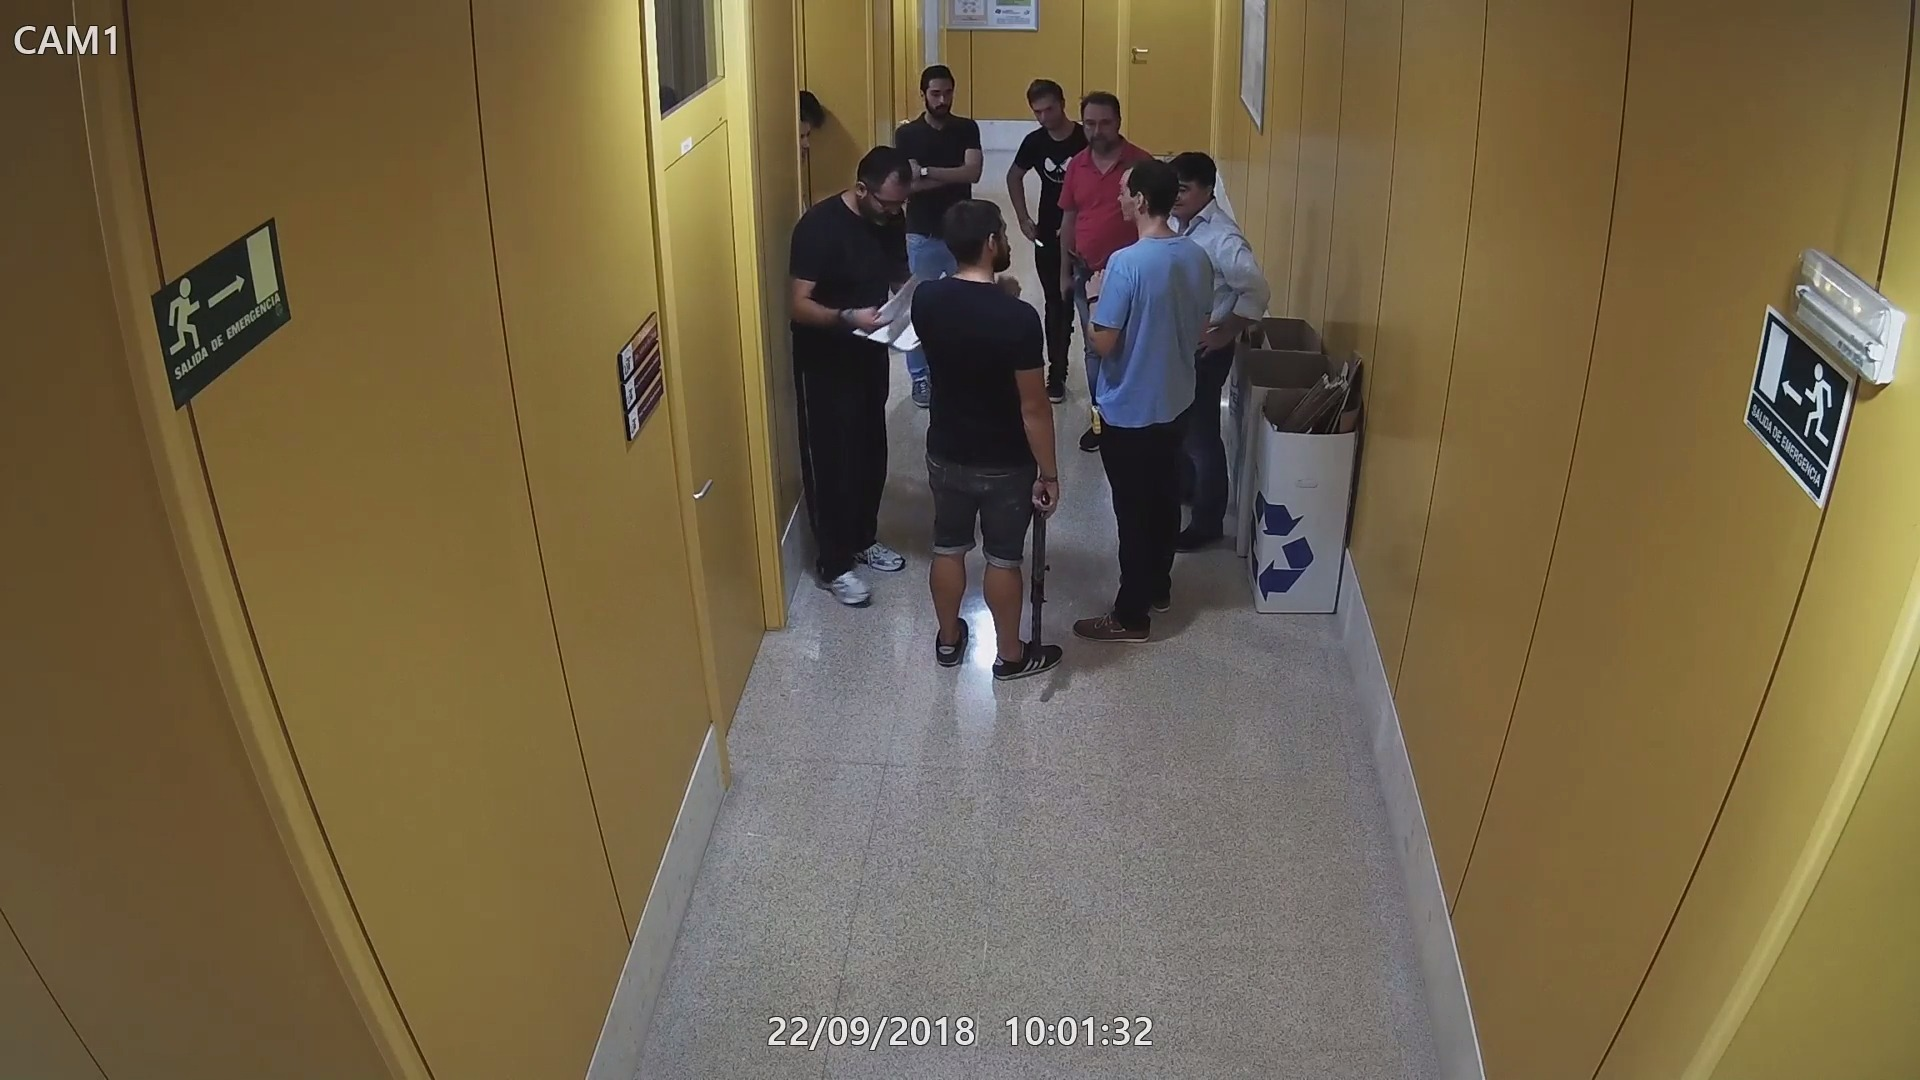pistol: (1065, 245, 1098, 293)
rifle: (1027, 483, 1055, 671), (1054, 278, 1080, 388)
